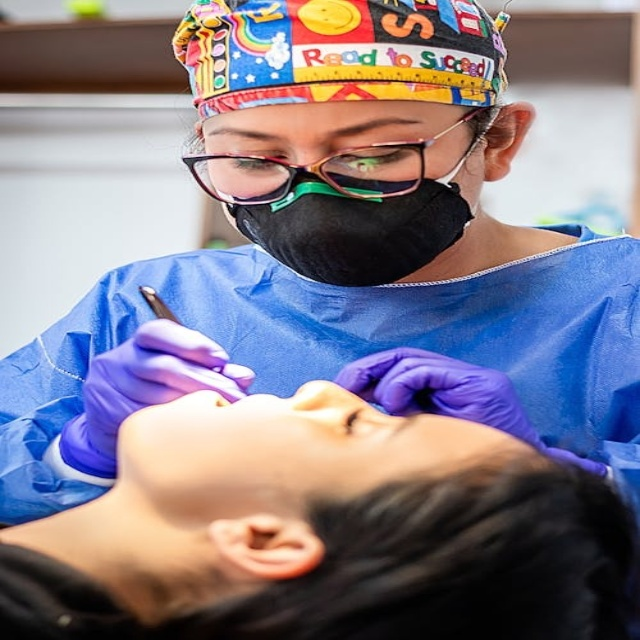Gafas: (181, 106, 485, 205)
Guantes: (334, 335, 607, 484), (38, 314, 260, 480)
Mascara: (223, 167, 476, 287)
Sin_gafas: (329, 398, 416, 490)
Sin_mascara: (146, 387, 284, 456)
